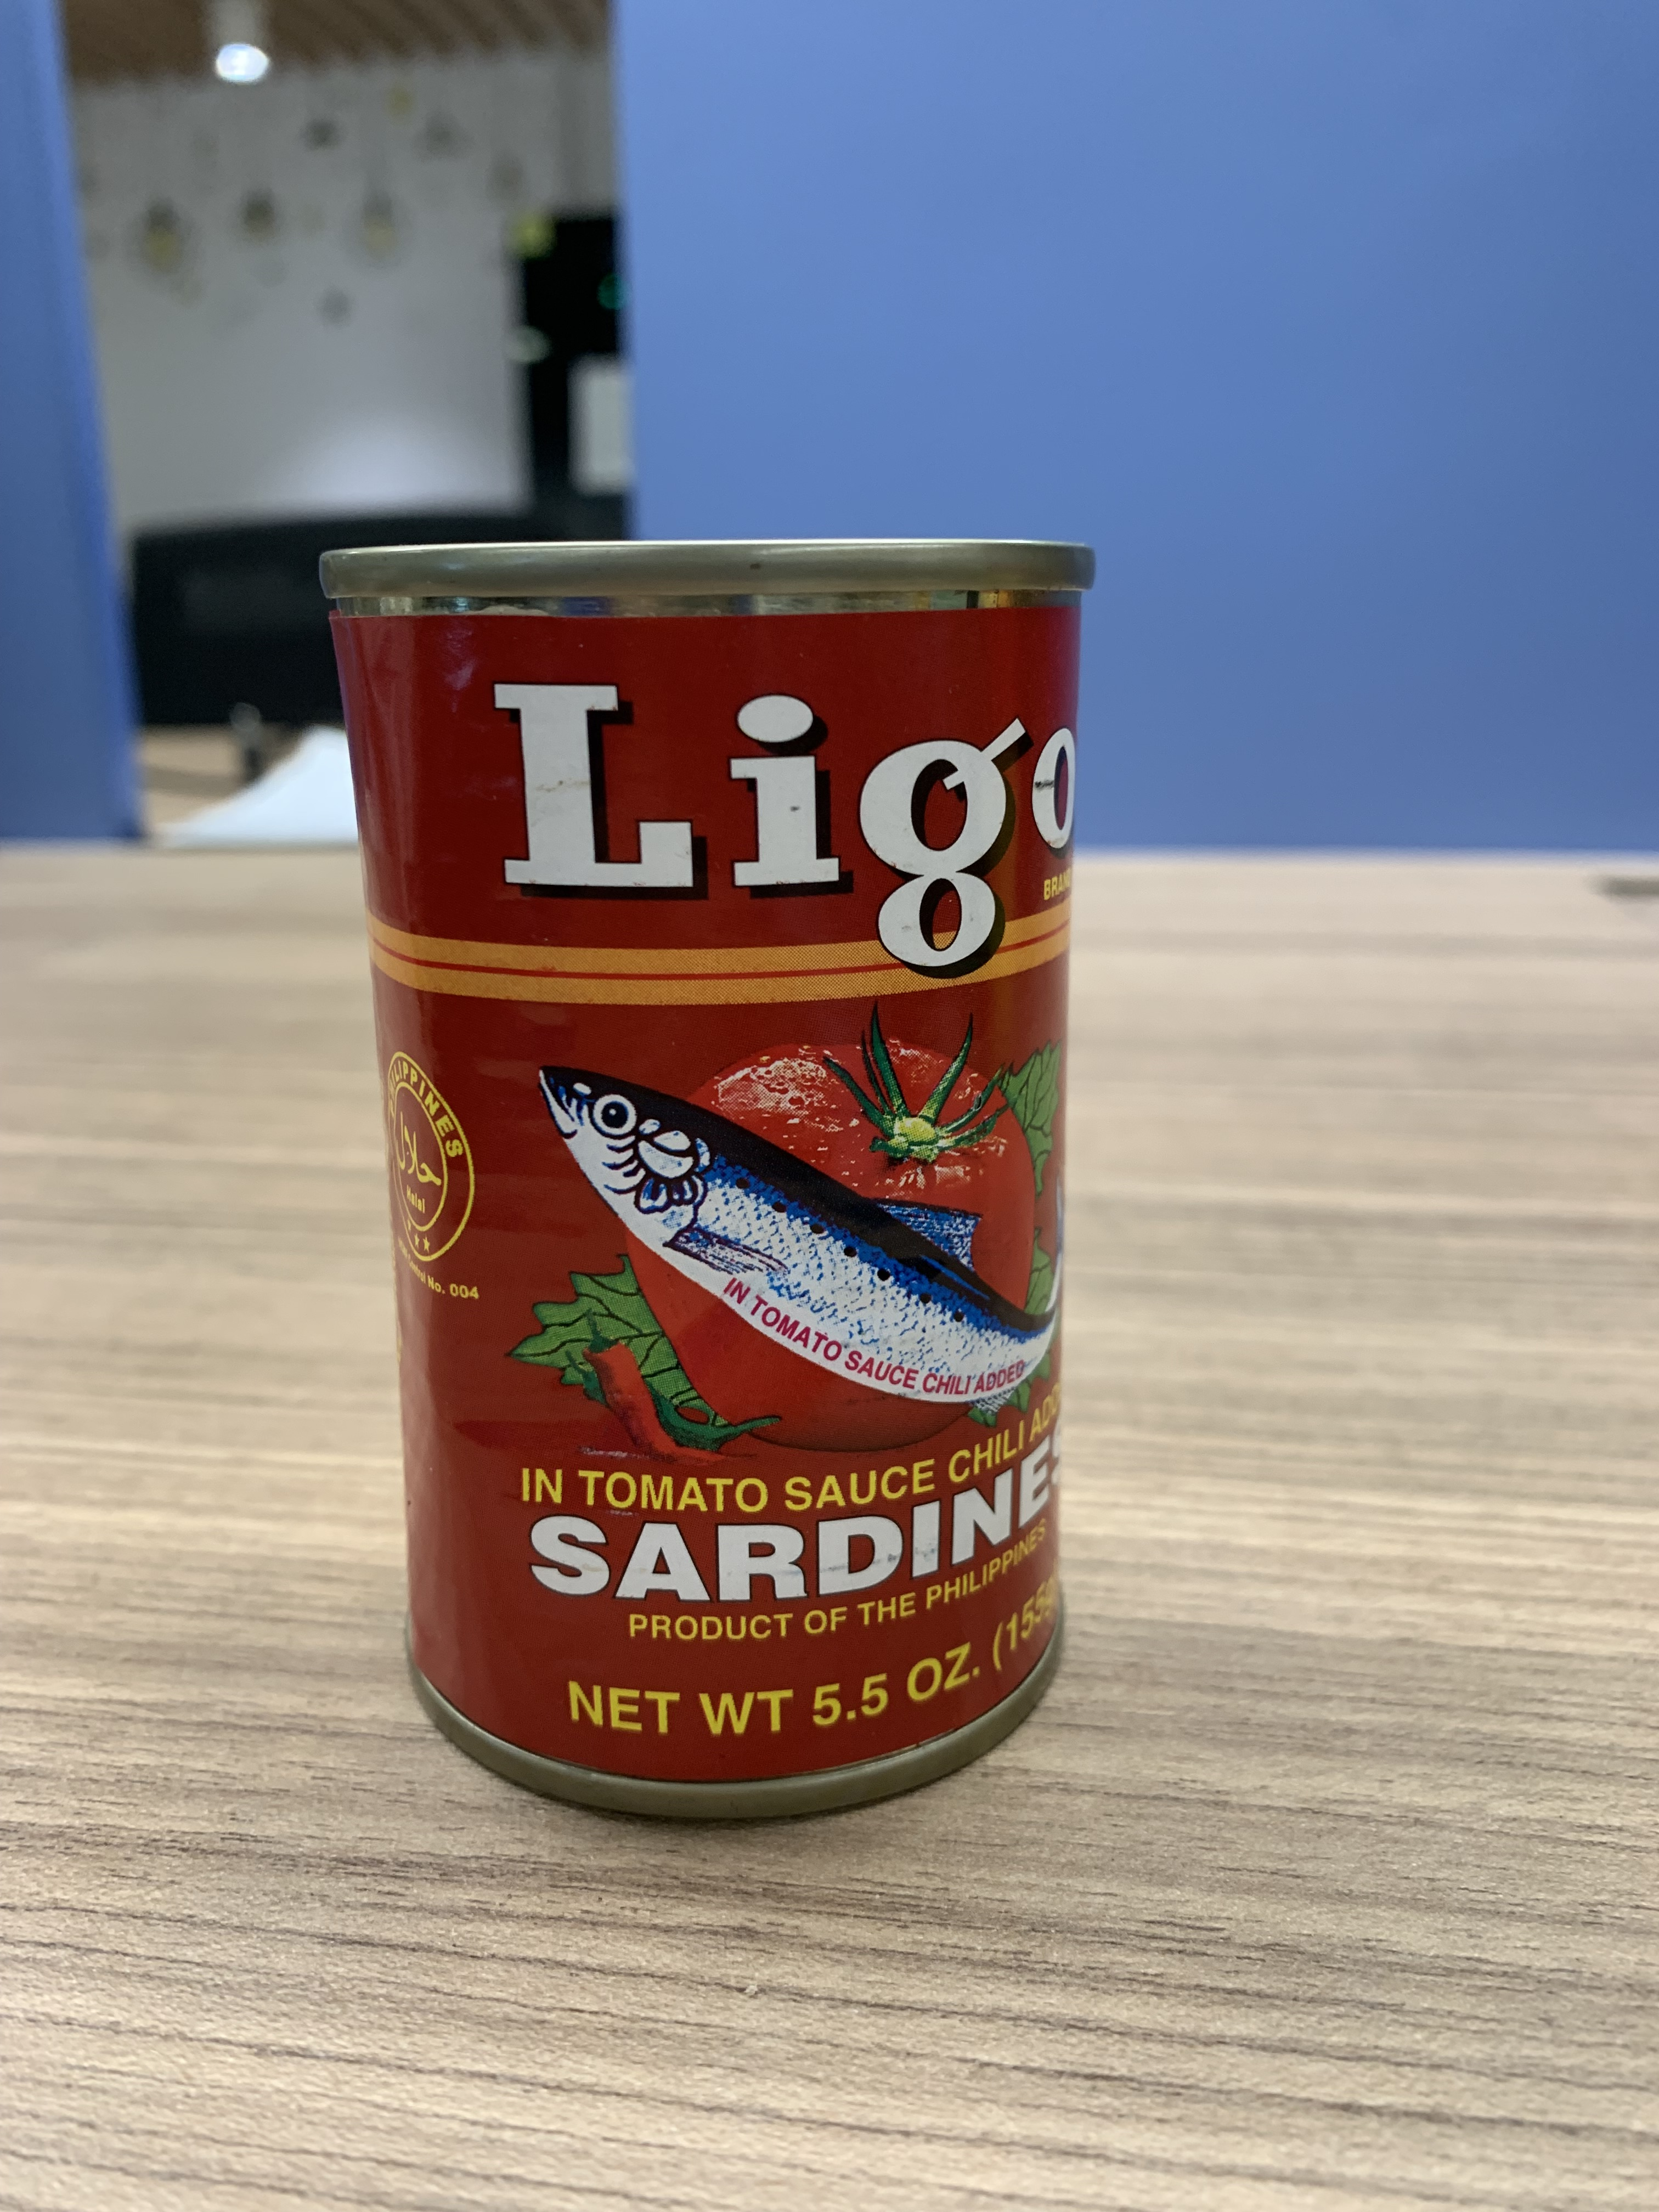sardines_100g-199g: (396, 636, 1065, 1730)
